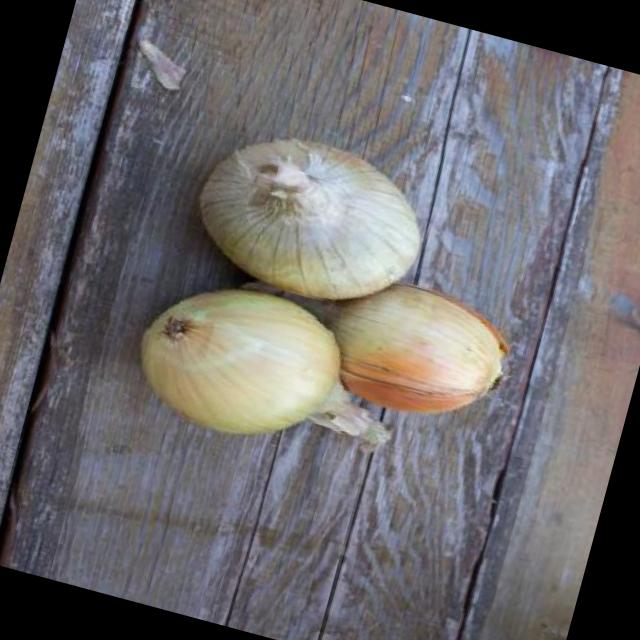Onion: (138, 289, 387, 449), (197, 138, 419, 298), (326, 283, 505, 413)
